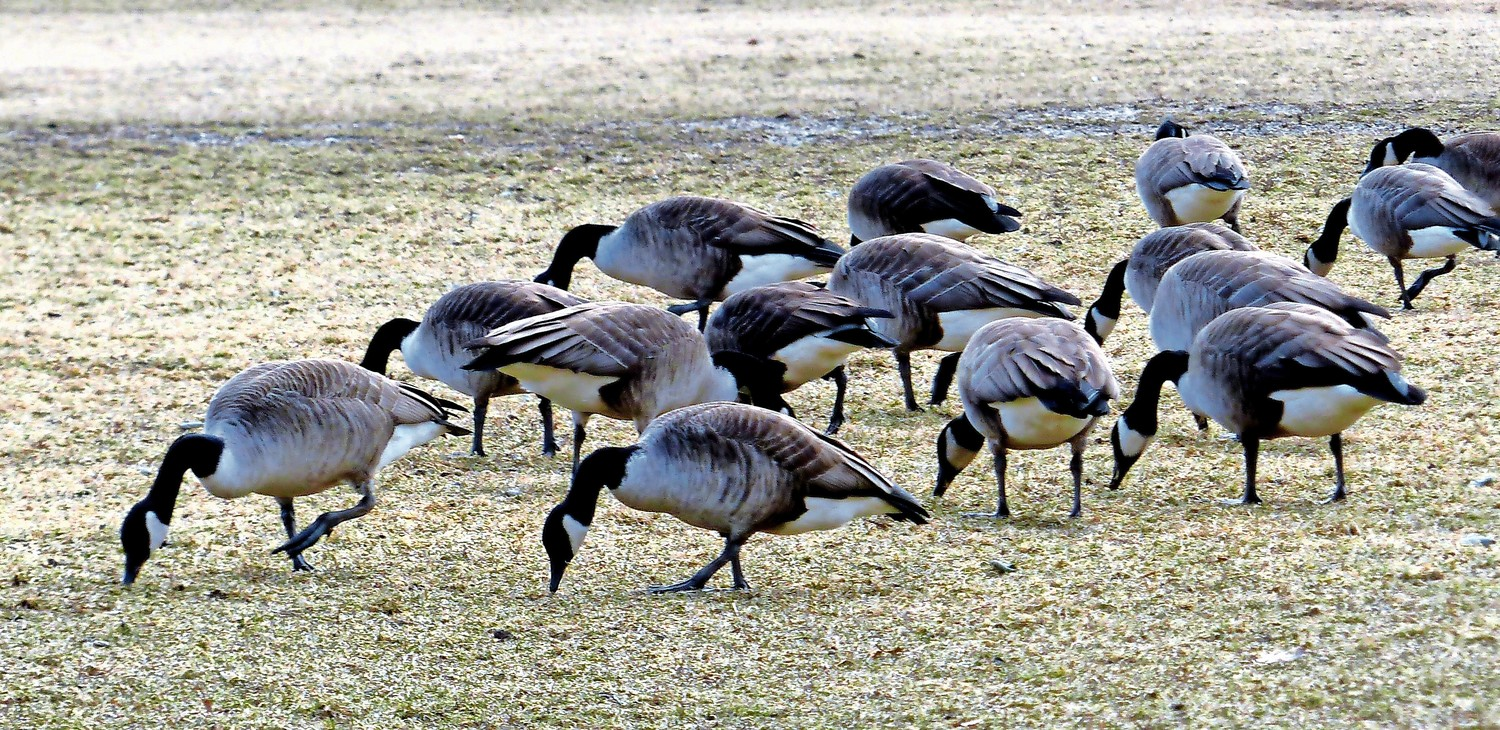goose: (111, 353, 477, 587), (524, 395, 935, 589), (1103, 297, 1421, 500), (926, 315, 1137, 524), (351, 274, 614, 437), (813, 232, 1082, 360), (493, 297, 734, 433), (537, 189, 846, 295), (1153, 248, 1393, 360), (1297, 160, 1500, 291), (1073, 219, 1264, 343), (703, 285, 870, 414), (835, 154, 1028, 254), (1122, 116, 1251, 224), (1349, 117, 1500, 200)
